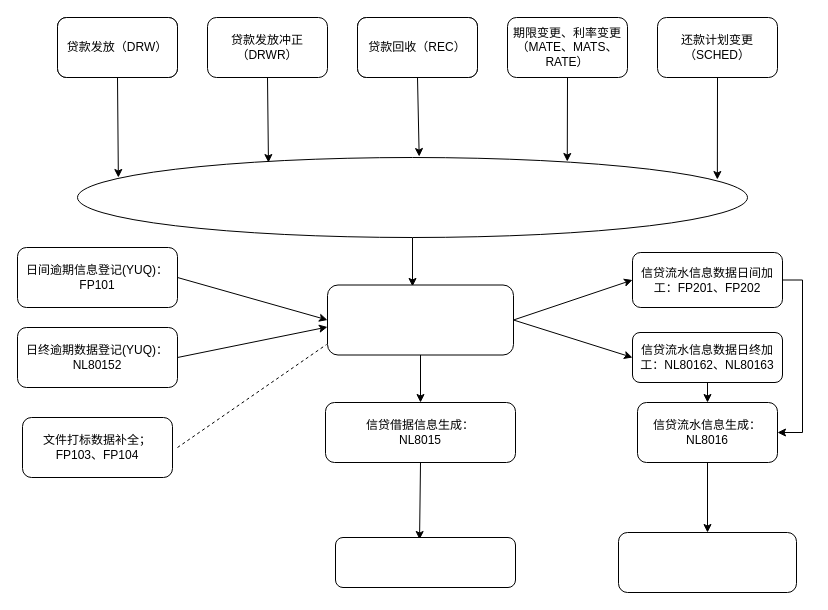
This 828x610 diagram has some shape labels left out. The box of each missing label's shape, as (x1, y1, x2, y2) in pixels:
信贷流水信息数据清理 NL_BUSINESS_WASTE_BOOK FP105: (618, 532, 796, 592)
文件准备数据清理NL_FILE_PRE_RECORD FP102: (334, 536, 516, 588)
文件准备数据登记切面：FileDataPrepareAspect: (76, 156, 748, 238)
登记NL_FILE_PRE_RECORD: (326, 284, 514, 355)
